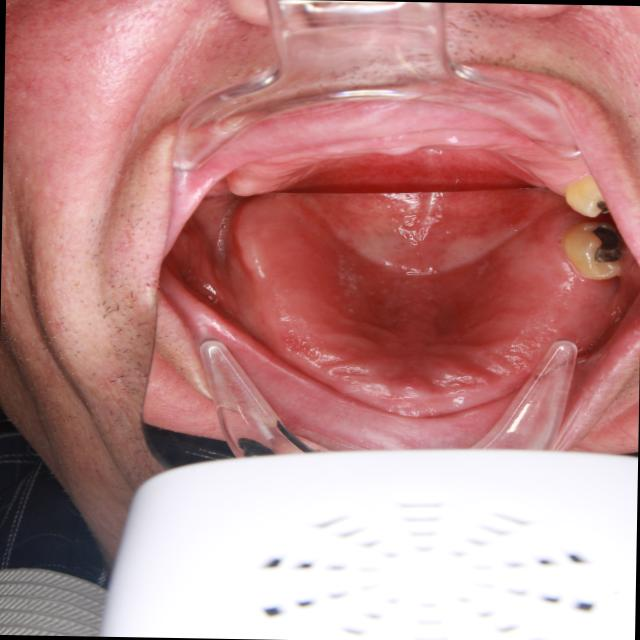tooth: (559, 216, 630, 282)
